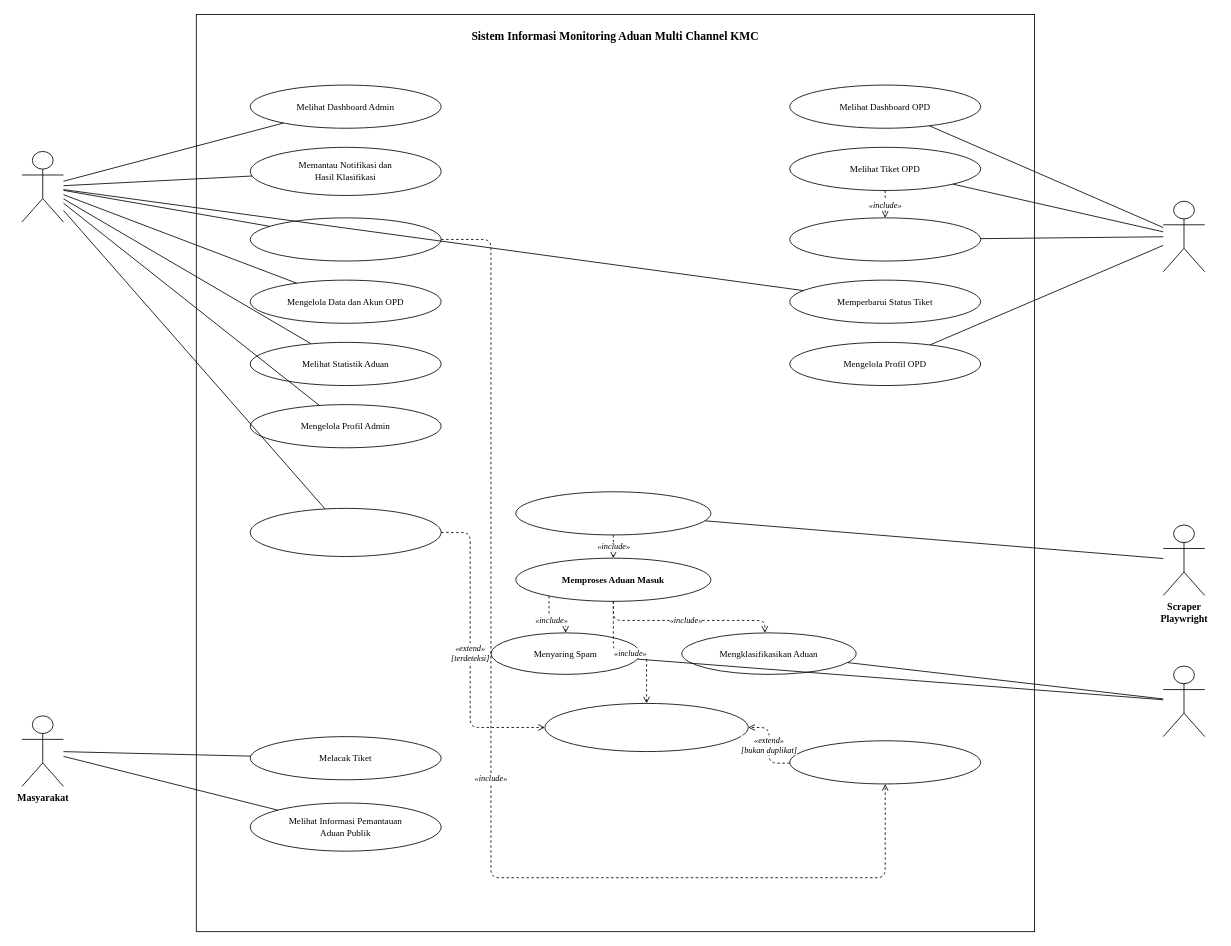
This 1231x946 diagram has some shape labels left out. Here are the shapes that lost their labels. From the top down, the centre of each, then its label:
(42,186): Admin KMC
(345,239): Mengelola Tiket
(885,239): Memberikan Tanggapan Tiket
(1183,236): Pengguna OPD
(345,532): Memverifikasi Kemungkinan Duplikasi
(613,513): Mengambil Data Aduan
(1183,701): Layanan AI (Gemma)
(646,727): Mendeteksi Kemungkinan Duplikasi (Cosine Similarity)
(885,762): Membuat Tiket Otomatis
